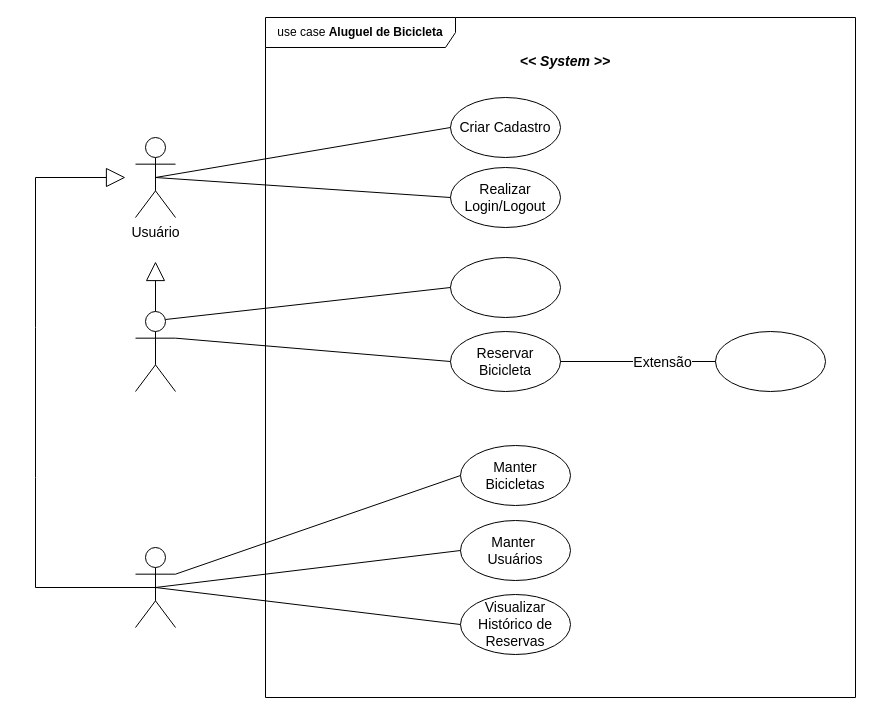
This 873x715 diagram has some shape labels left out. Each missing label, with the centre of its shape:
"Avaliar bicicleta" goes at [770,361].
"Cidadão" goes at [155,351].
"Gestor" goes at [155,587].
"Ver bicicletas disponíveis" goes at [505,287].
